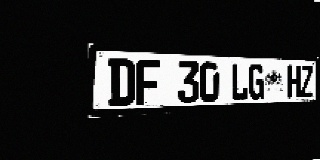0: (199, 62, 219, 103)
3: (178, 61, 199, 104)
D: (108, 58, 135, 107)
F: (136, 59, 160, 106)
G: (249, 63, 264, 100)
H: (287, 65, 301, 98)
L: (231, 63, 248, 101)
Z: (301, 65, 313, 98)
